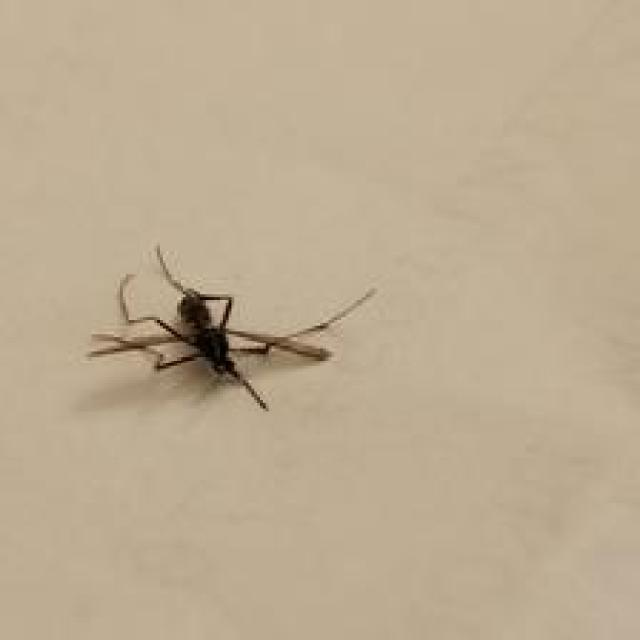Aedes albopictus: (86, 241, 377, 413)
